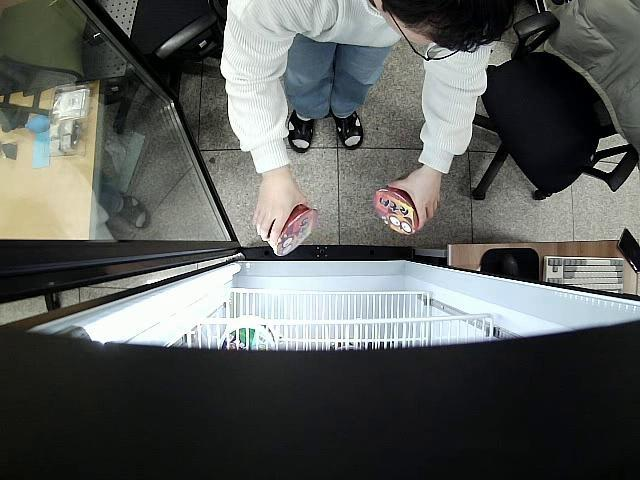05_nuguri_L: (262, 202, 318, 256), (374, 185, 419, 236)
